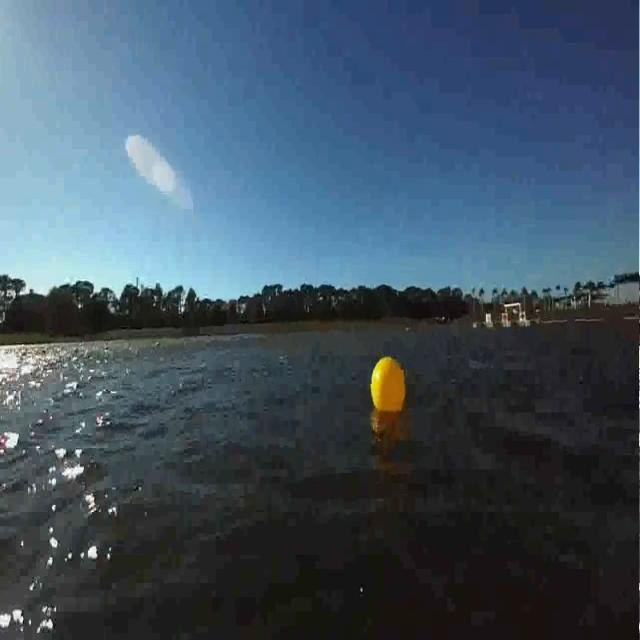yellow-buoy: (370, 355, 408, 418)
